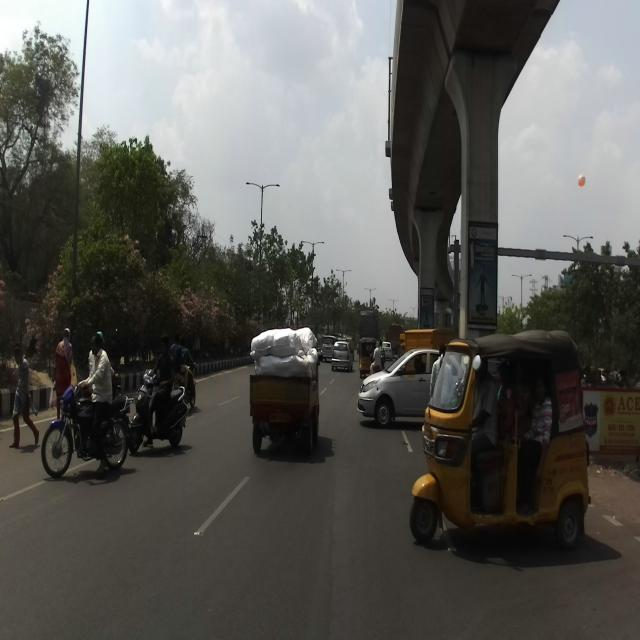autorickshaw: (408, 329, 591, 555), (250, 328, 320, 454)
car: (357, 348, 440, 428)
motorcycle: (41, 382, 129, 478)
scooter: (128, 367, 188, 453)
